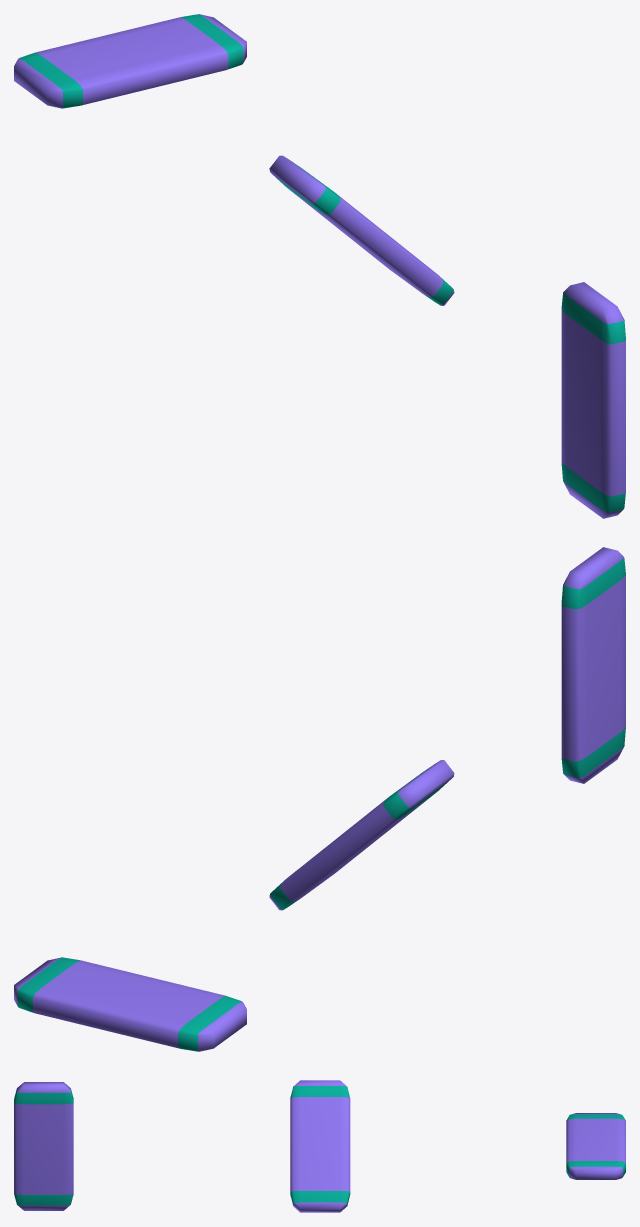
File: rotating_platform.glb
3 views of the same model, one above another, from view 1: azimuth 30°, elevation 25°; view 2: azimuth 150°, elevation 25°; view 3: azimuth 270°, elevation 25° (orthographic). The views are drawn at different scales.
Parts seen in each view (by area): view 1: Cube.005, Cube.003, Cube.004; view 2: Cube.005, Cube.003, Cube.004; view 3: Cube.004, Cube.005, Cube.003.
Boxes of the visible parts, x1,y1,x2,y2 form: Cube.005: [561, 282, 625, 518]; Cube.003: [14, 14, 246, 108]; Cube.004: [269, 155, 454, 305]; Cube.005: [561, 547, 625, 783]; Cube.003: [14, 957, 246, 1051]; Cube.004: [269, 760, 454, 910]; Cube.004: [290, 1080, 350, 1212]; Cube.005: [14, 1082, 73, 1210]; Cube.003: [566, 1113, 625, 1179].
Size of what is drawn, in the model's own units: 4.98 by 4.98 by 22.18.
Materials: 1 (1 with a texture image).
